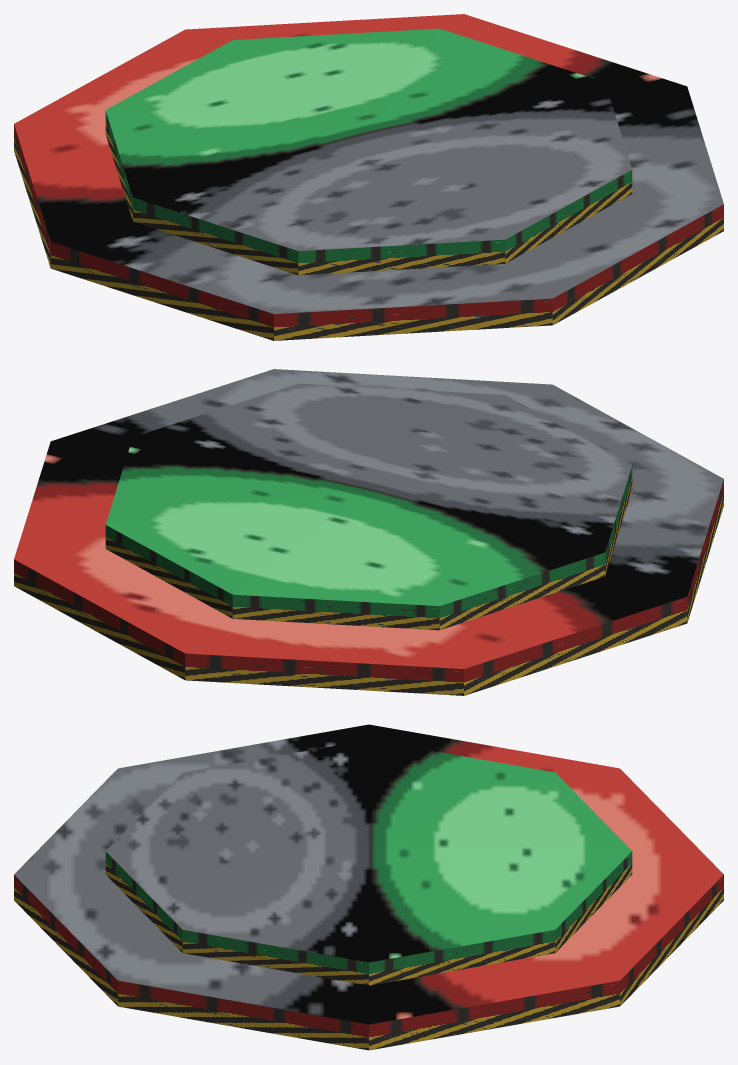
File: RideButton.glb
3 renders of one model, top to bottom at view 1: azimuth 30°, elevation 25°; view 2: azimuth 150°, elevation 25°; view 3: azimuth 270°, elevation 25°, orthographic. The views are drawn at different scales.
Visible parts, largest first — view 1: RideButton; view 2: RideButton; view 3: RideButton.
Part boxes in pixels (x1=…): RideButton: x1=14, y1=14, x2=723, y2=340; RideButton: x1=14, y1=369, x2=723, y2=695; RideButton: x1=14, y1=724, x2=723, y2=1050.
Size of the model in its own units: 1.24 by 0.107 by 1.24.
1 material, 1 textured.
